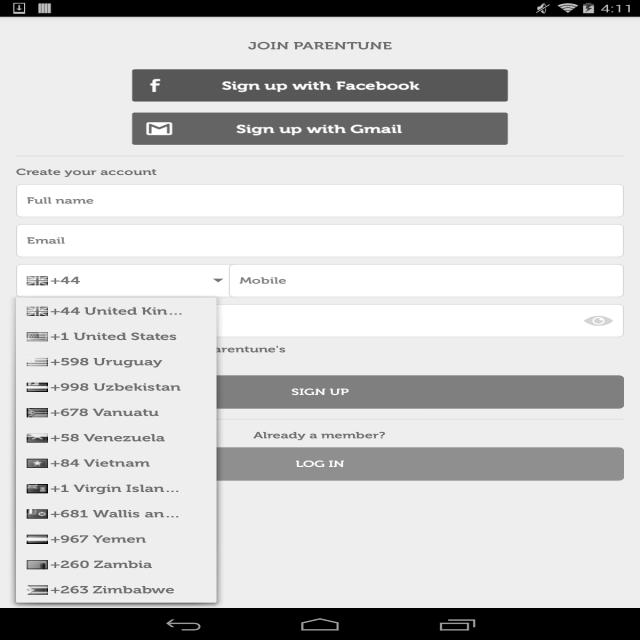Button: (131, 112, 520, 146), (140, 67, 514, 102)
EditText: (17, 223, 618, 259), (14, 186, 609, 213), (232, 271, 488, 293)
TextView: (24, 300, 211, 600), (228, 421, 445, 441), (239, 35, 403, 55), (13, 160, 157, 177), (16, 275, 117, 287)
